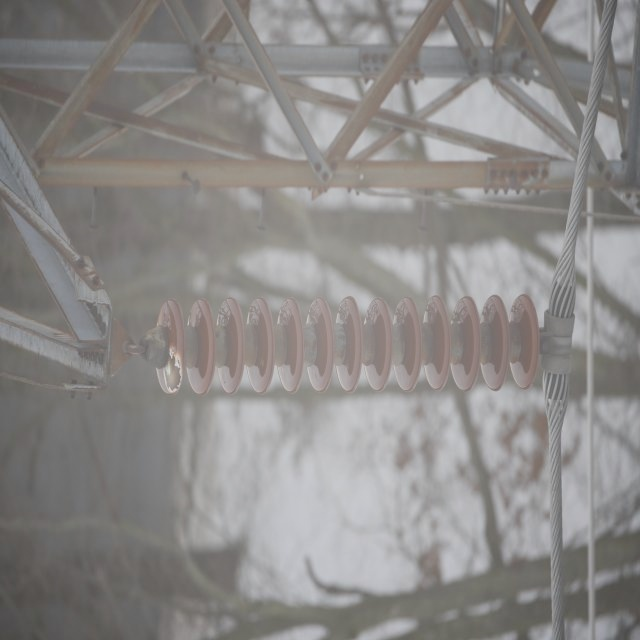insulator: (155, 291, 541, 398)
